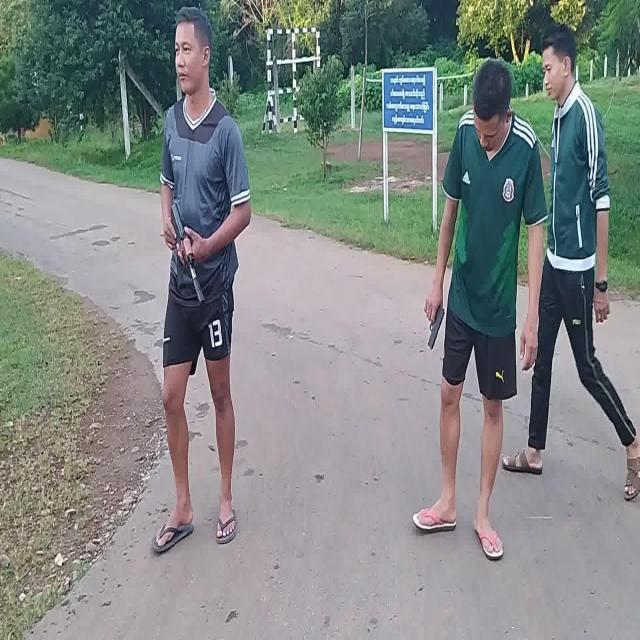gun: (171, 203, 206, 307), (428, 308, 444, 348)
